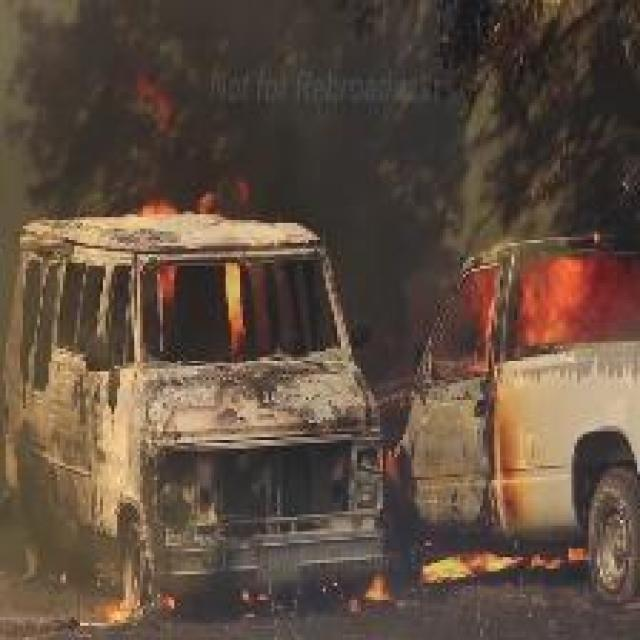Fire: (525, 261, 640, 344), (420, 553, 523, 587), (222, 258, 244, 350), (362, 574, 389, 600)
